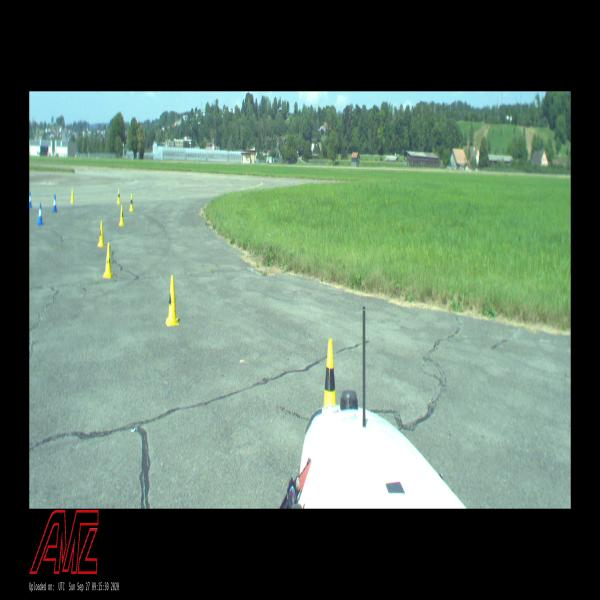blue_cone: (37, 203, 43, 225), (53, 194, 57, 212), (29, 190, 32, 208)
yellow_cone: (323, 338, 336, 406), (165, 275, 179, 326), (103, 244, 114, 278), (98, 221, 105, 247), (119, 204, 124, 226), (117, 189, 121, 204), (70, 189, 74, 203), (130, 194, 133, 211)
